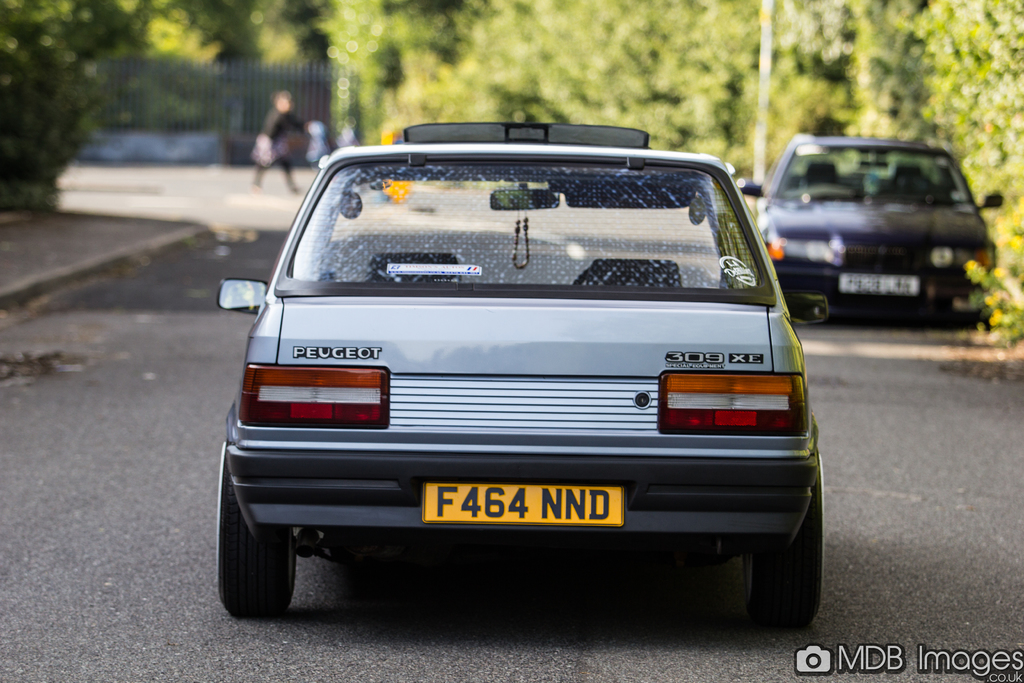person: (246, 90, 307, 196)
